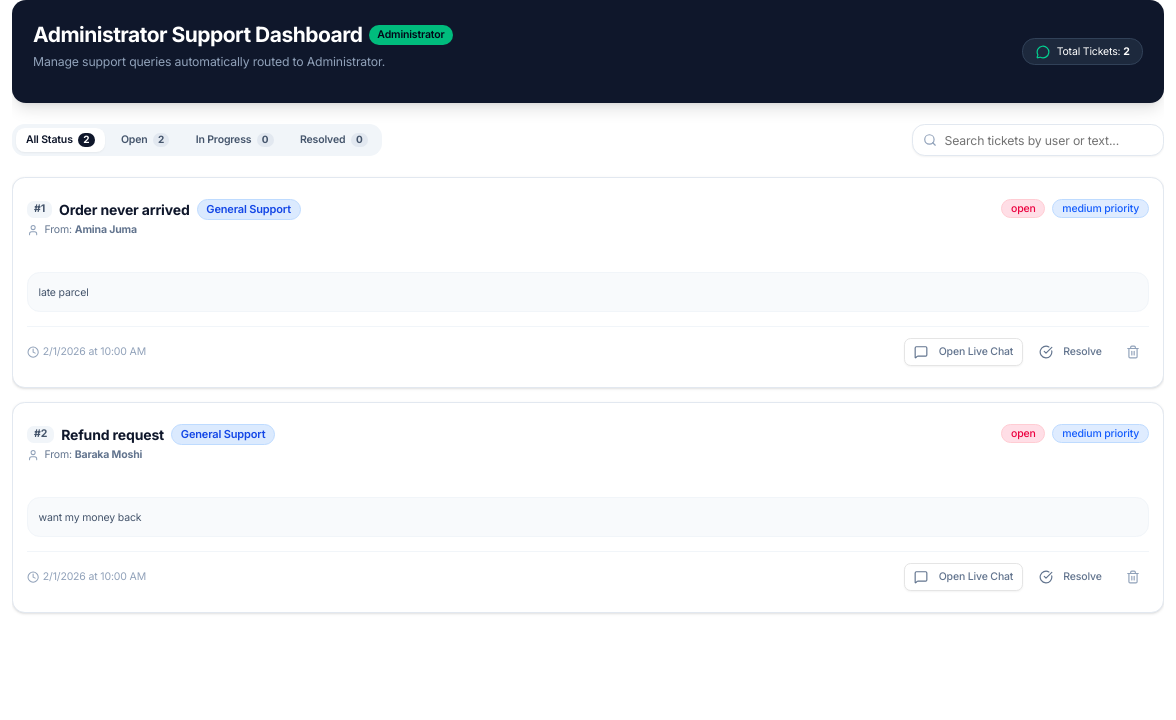
Test: SupportTicketsTab search › filters by subject
Type "refund" into the field with placeholder "Search tickets by user or text...". click: (1038, 140)
box: [912,124,1164,156]
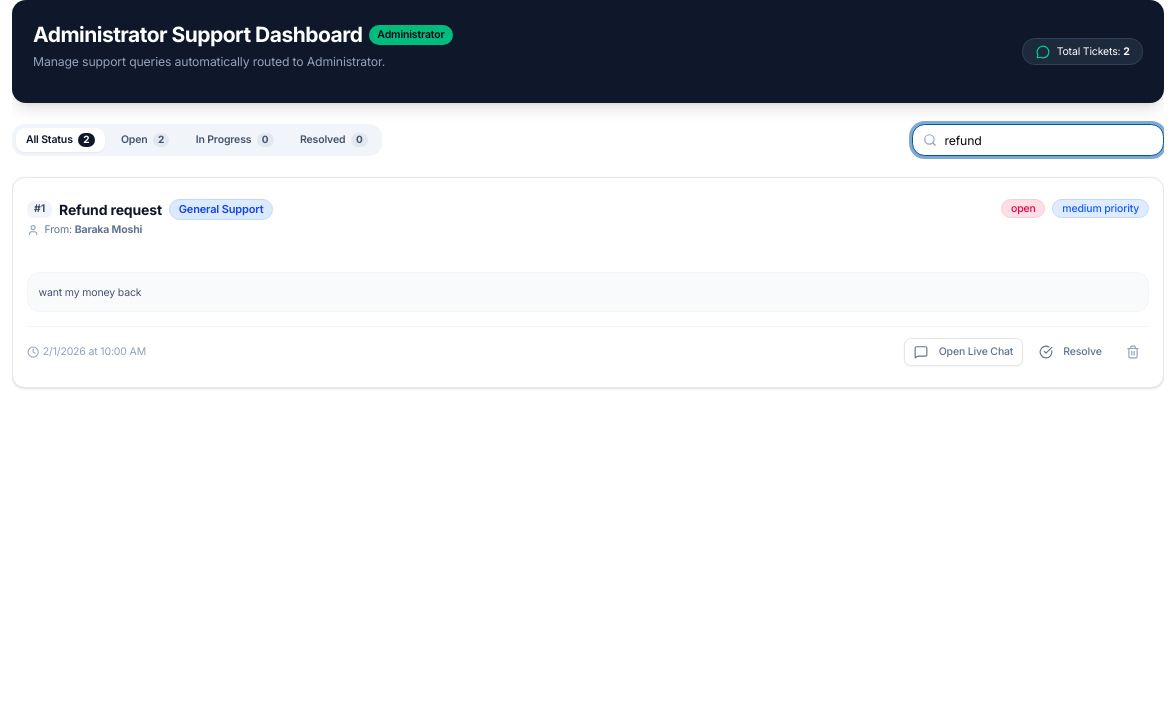
Expected: the text "Refund request" is shown, [59,199,162,220]
Expected: the text "Order never arrived" is gone
